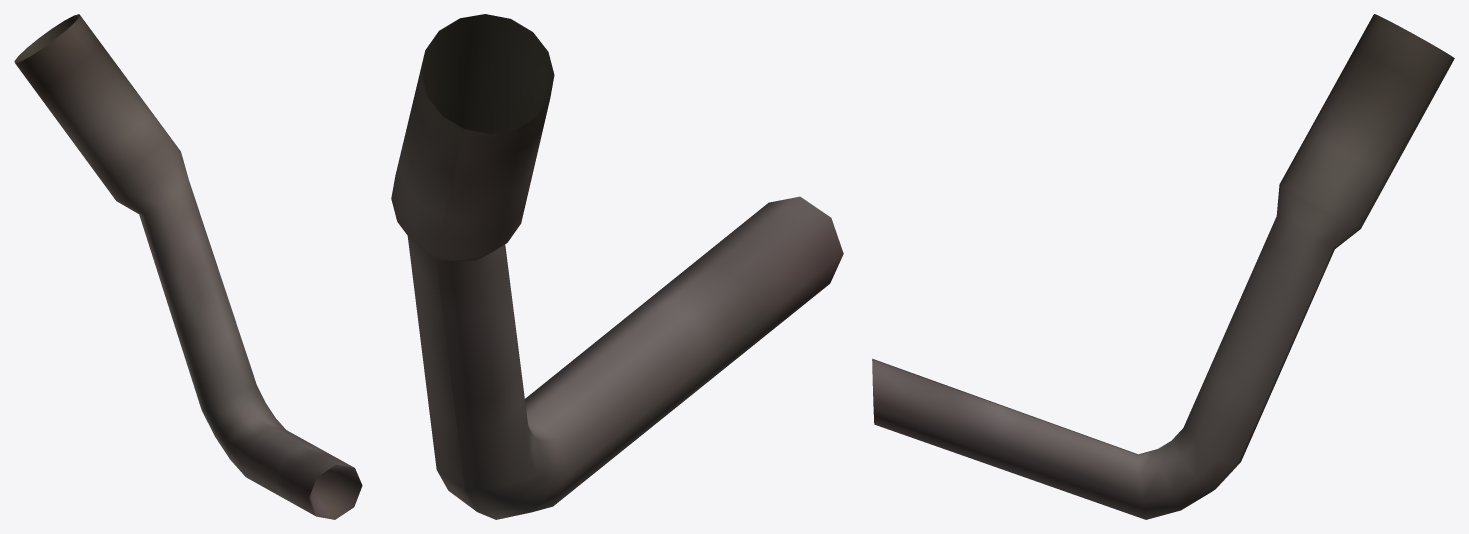
File: exhausts.glb
The picture shows the model from 3 angles, left to right: view 1: azimuth 30°, elevation 25°; view 2: azimuth 150°, elevation 25°; view 3: azimuth 270°, elevation 25°; orthographic projection. The views are drawn at different scales.
Visible parts, largest first — view 1: exhausts; view 2: exhausts; view 3: exhausts.
Part boxes in pixels (x1,y1,x2,y2): exhausts: [14, 14, 362, 519]; exhausts: [391, 14, 843, 519]; exhausts: [872, 14, 1454, 519].
Bounding box in the file's own units: 0.2168 × 0.5276 × 0.6132.
Materials: 1 (1 with a texture image).
